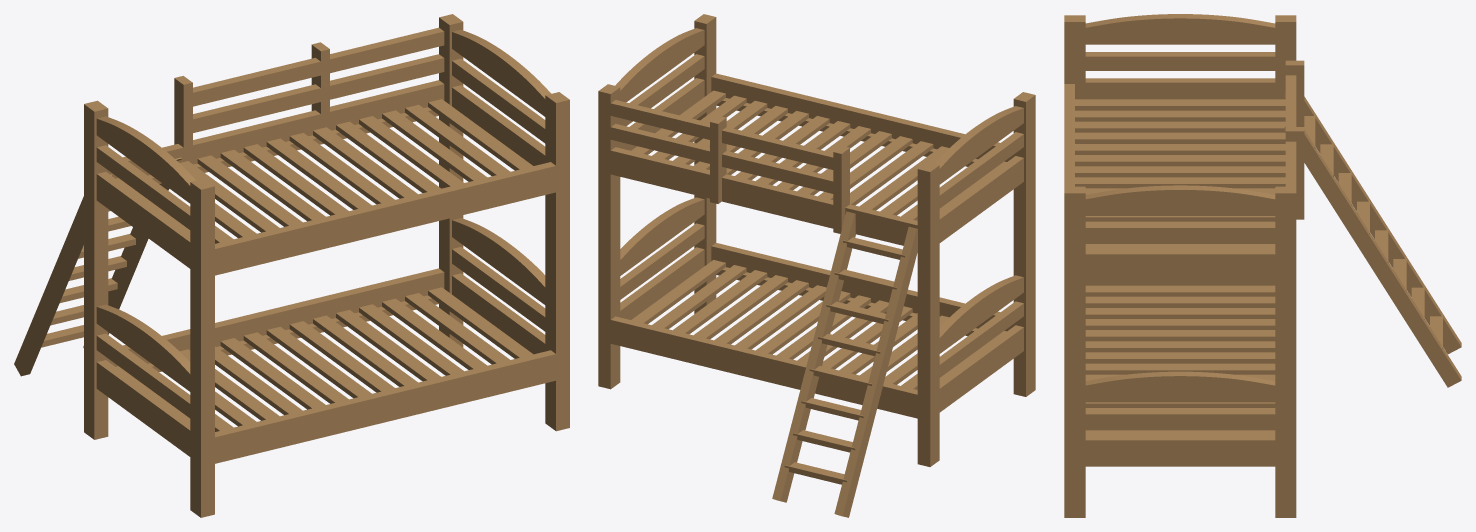
The picture shows the model from 3 angles, left to right: view 1: azimuth 30°, elevation 25°; view 2: azimuth 150°, elevation 25°; view 3: azimuth 270°, elevation 25°; orthographic projection. The views are drawn at different scales.
Visible parts, largest first — view 1: bunk_bed; view 2: bunk_bed; view 3: bunk_bed.
Part boxes in pixels (x1,y1,x2,y2): bunk_bed: [14, 14, 569, 517]; bunk_bed: [598, 14, 1035, 517]; bunk_bed: [1064, 14, 1461, 517].
Size of the model in its own units: 2 by 1.73 by 1.88.
